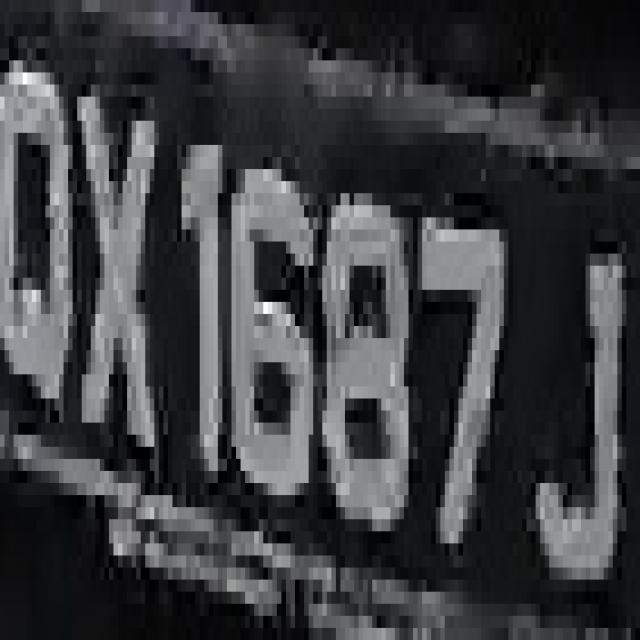1: (173, 97, 236, 568)
6: (232, 145, 318, 555)
7: (408, 181, 499, 580)
8: (318, 145, 418, 543)
J: (513, 217, 626, 592)
Q: (4, 48, 82, 447)
X: (73, 36, 168, 483)
